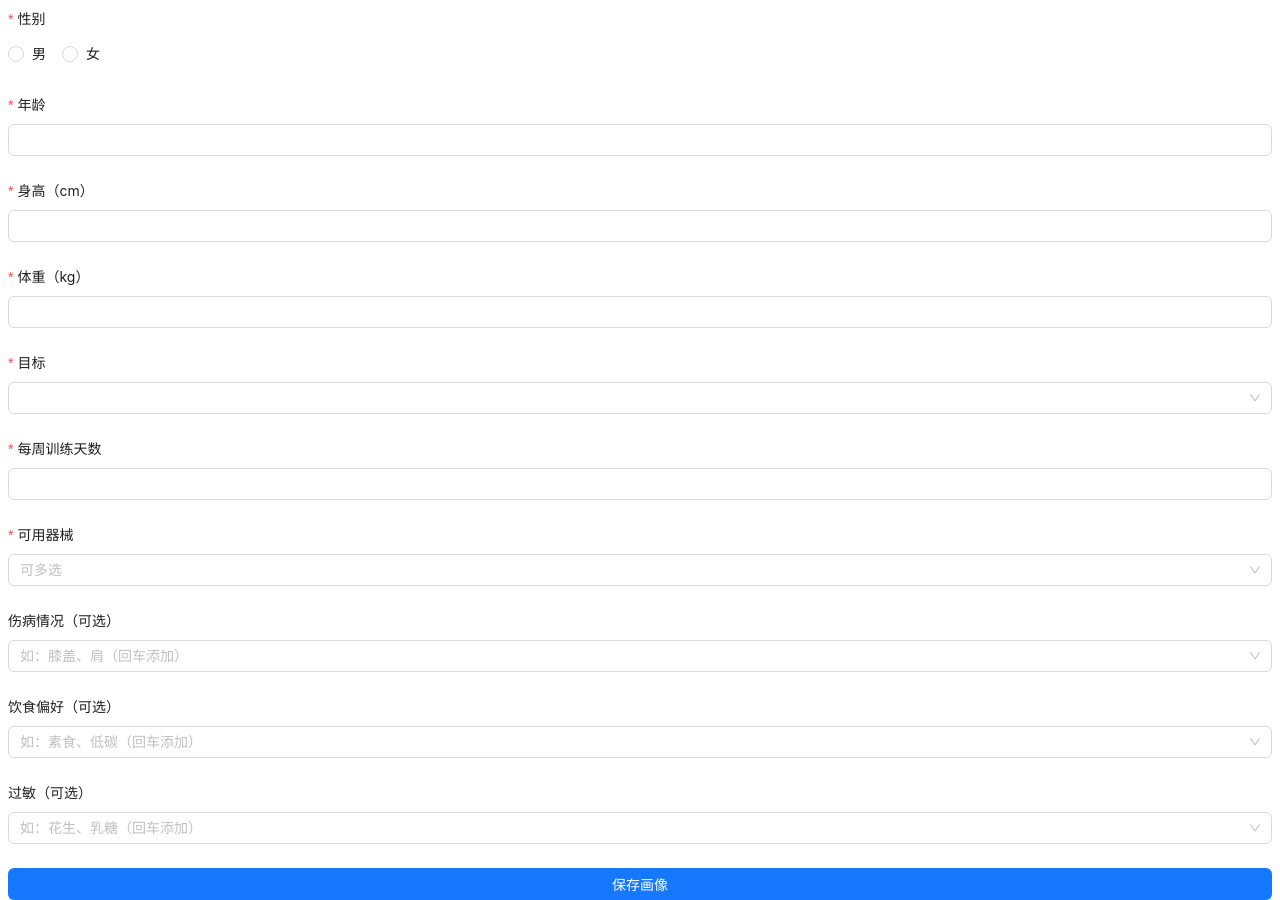
Test: ProfileForm 校验 › 年龄越界提示
Type "200" into the number field labelled "年龄". click: (640, 140)
box: [9, 125, 1271, 155]
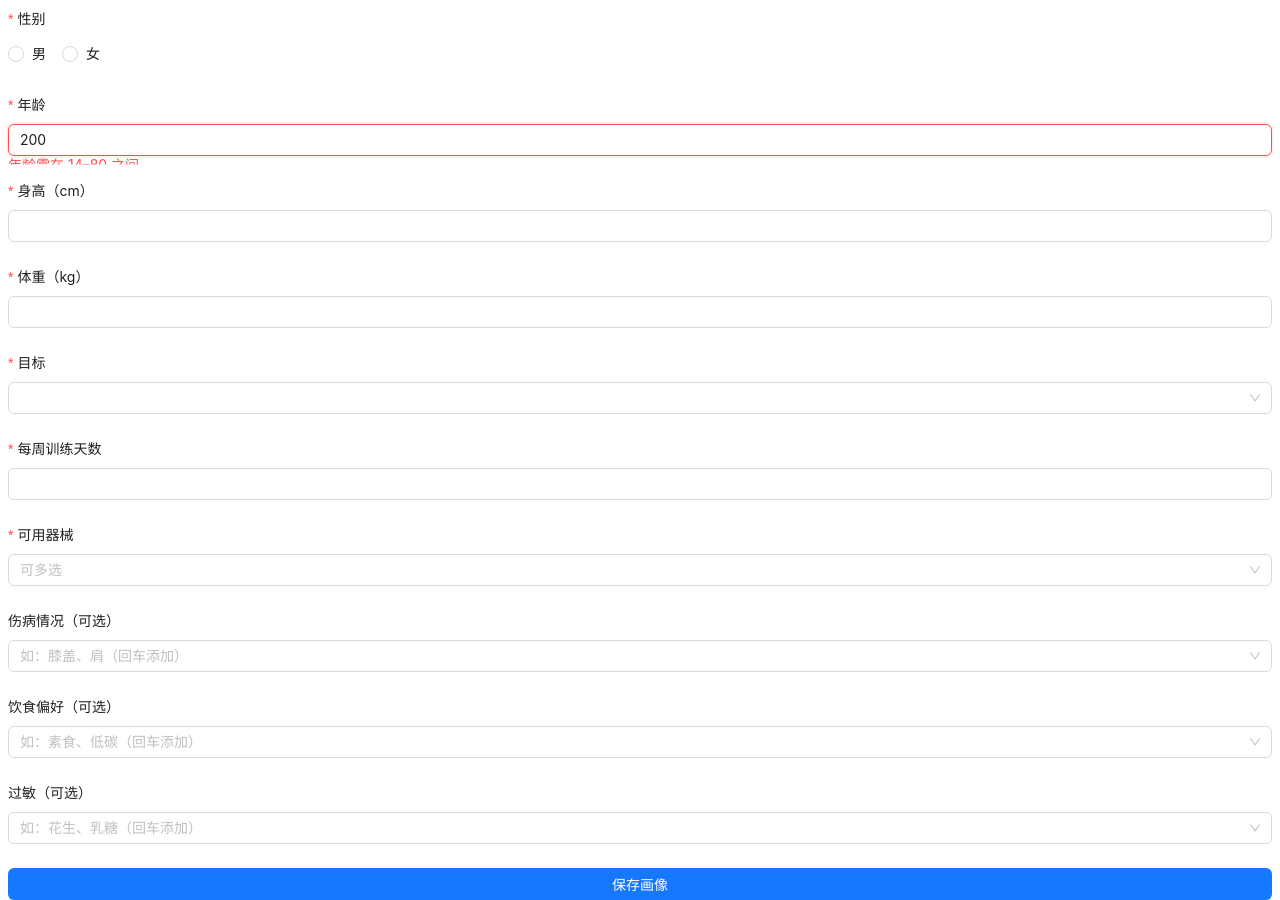
Click the button "保存画像". click: (640, 884)
box: [8, 868, 1272, 899]
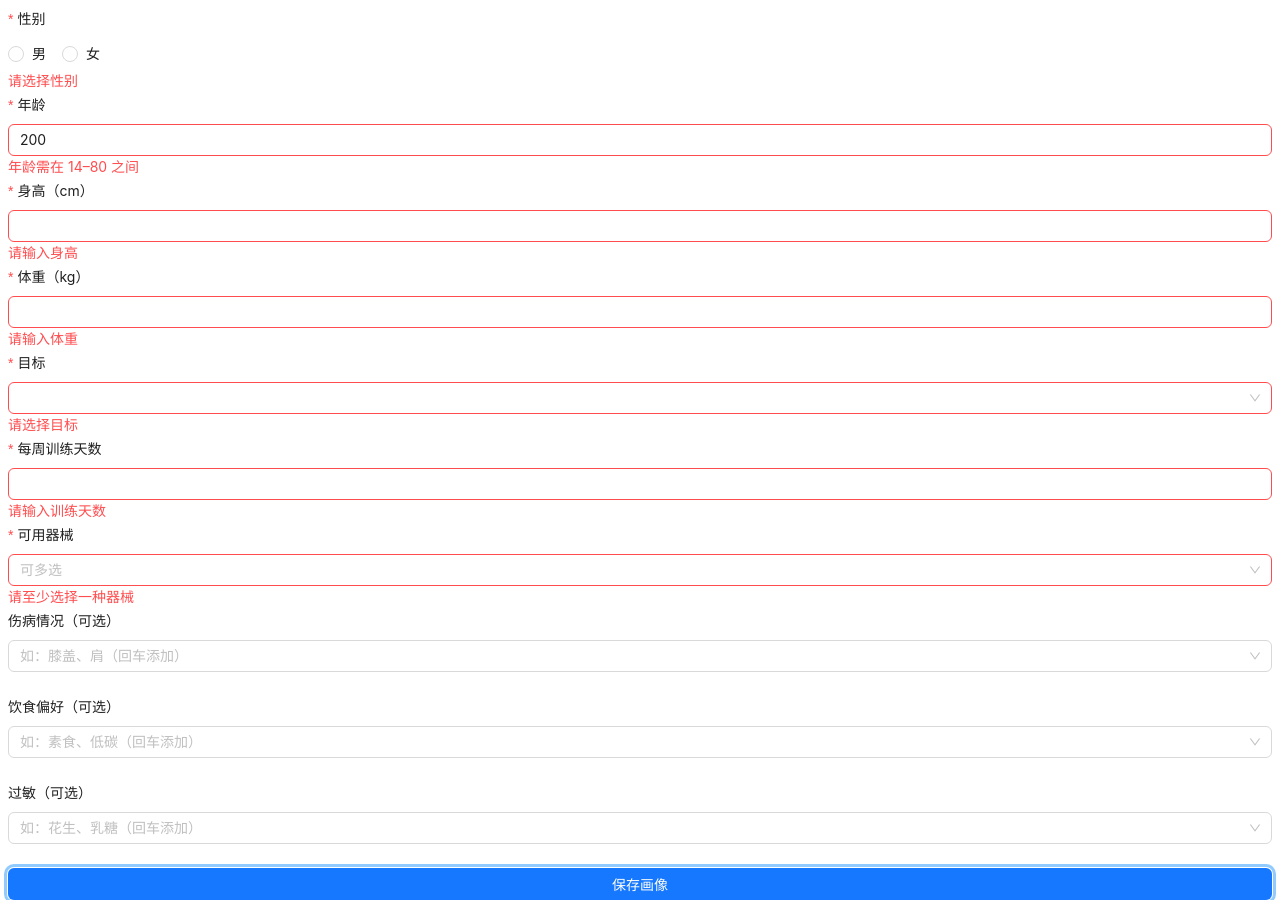
Check: the text "年龄需在 14–80 之间" is shown, box [8, 158, 139, 175]
